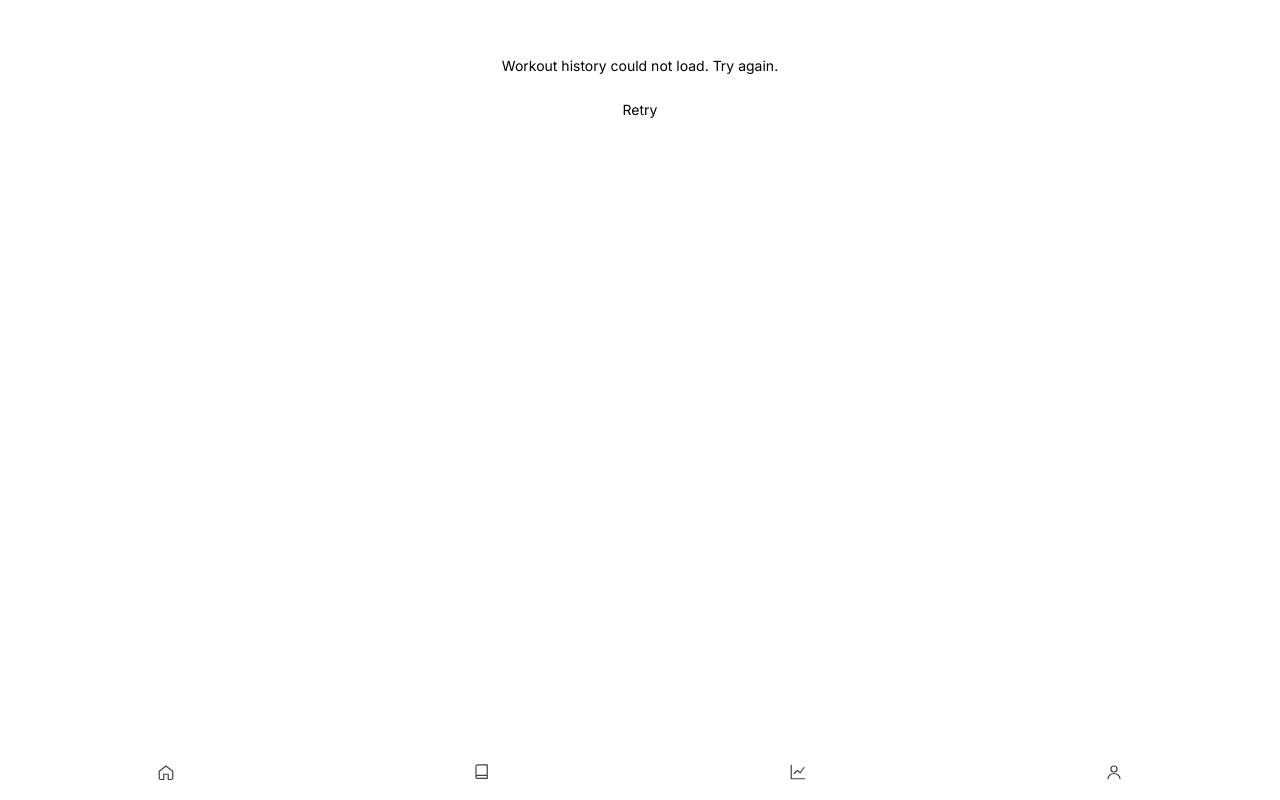
Test case: Workout history recovery and honest set evidence › retries initial query failures in place and recovers with preferred-unit/null rendering
Expected: the message shows "history could not load", [502,57,778,74]
Click the button "Retry" at (640, 110), box [610,88,669,132]
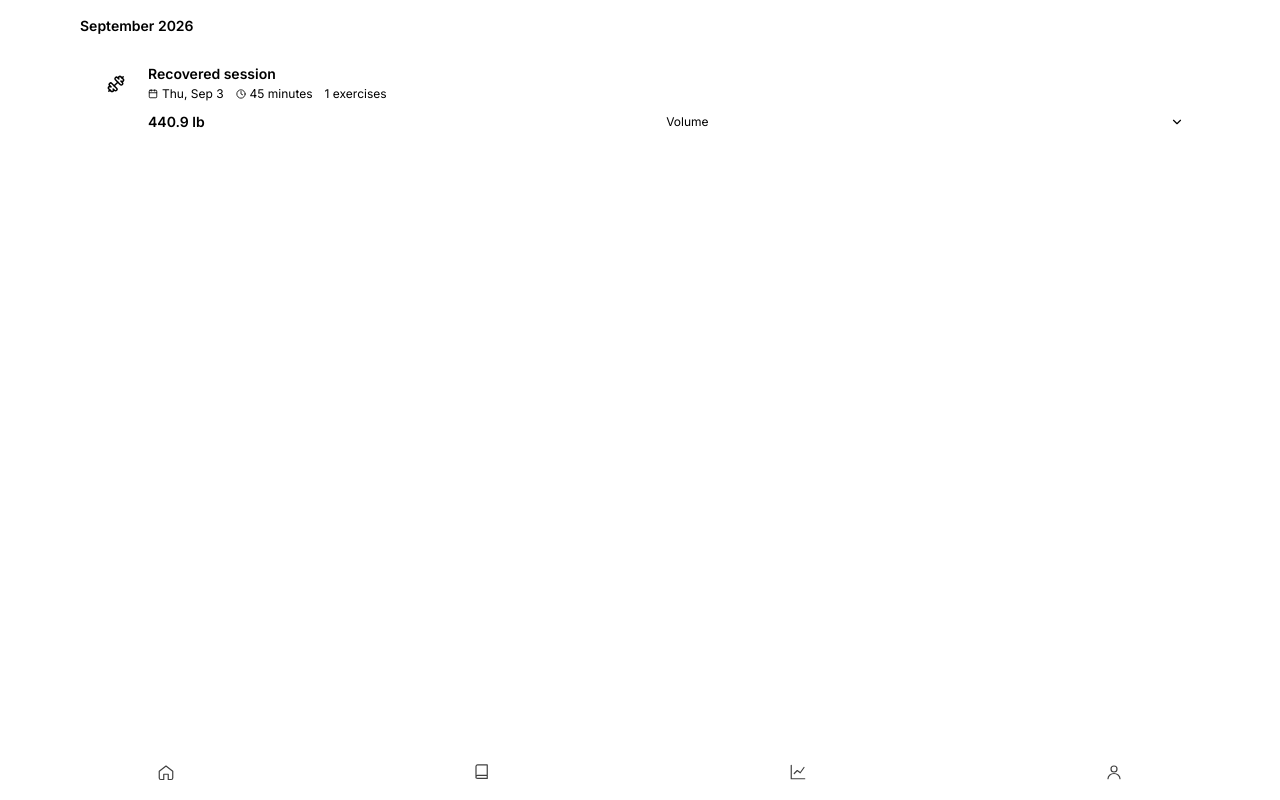
Expected: the element with test id "workout-history-layout" is shown, [64,0,1216,148]
Click the button "Recovered session" at (212, 74), box [80,48,1200,148]
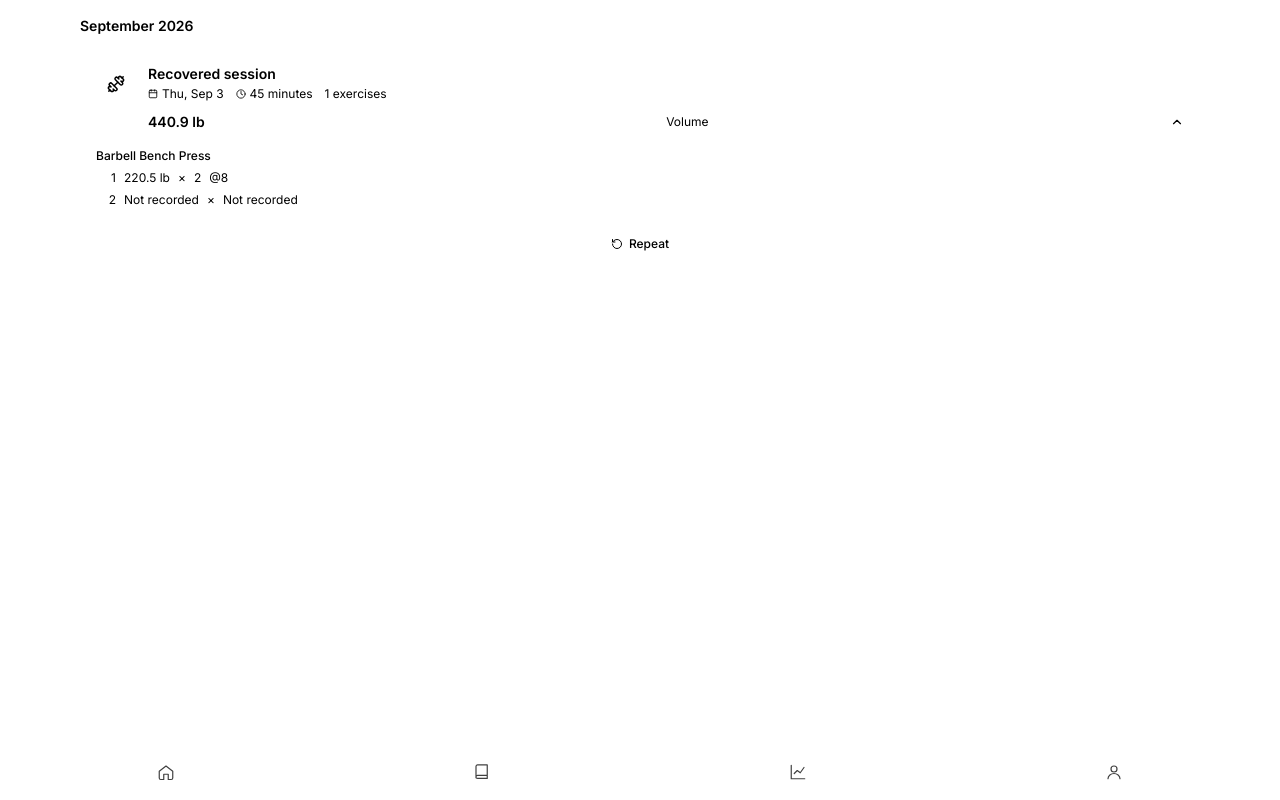
Now the text "220.5 lb" is shown, box [124,170,170,186]
Now the text "Not recorded" is shown 2 times, box [124,192,199,208]; [223,192,298,208]
